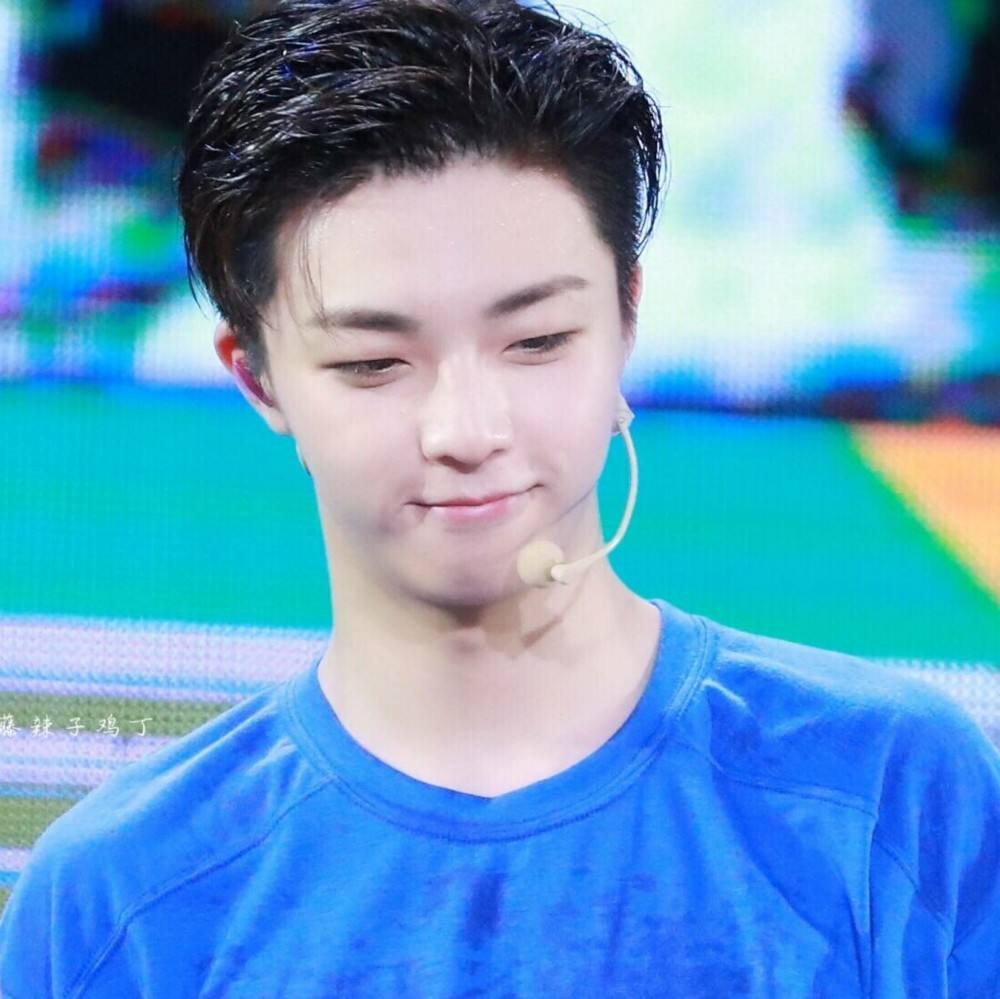person: (105, 83, 932, 999)
